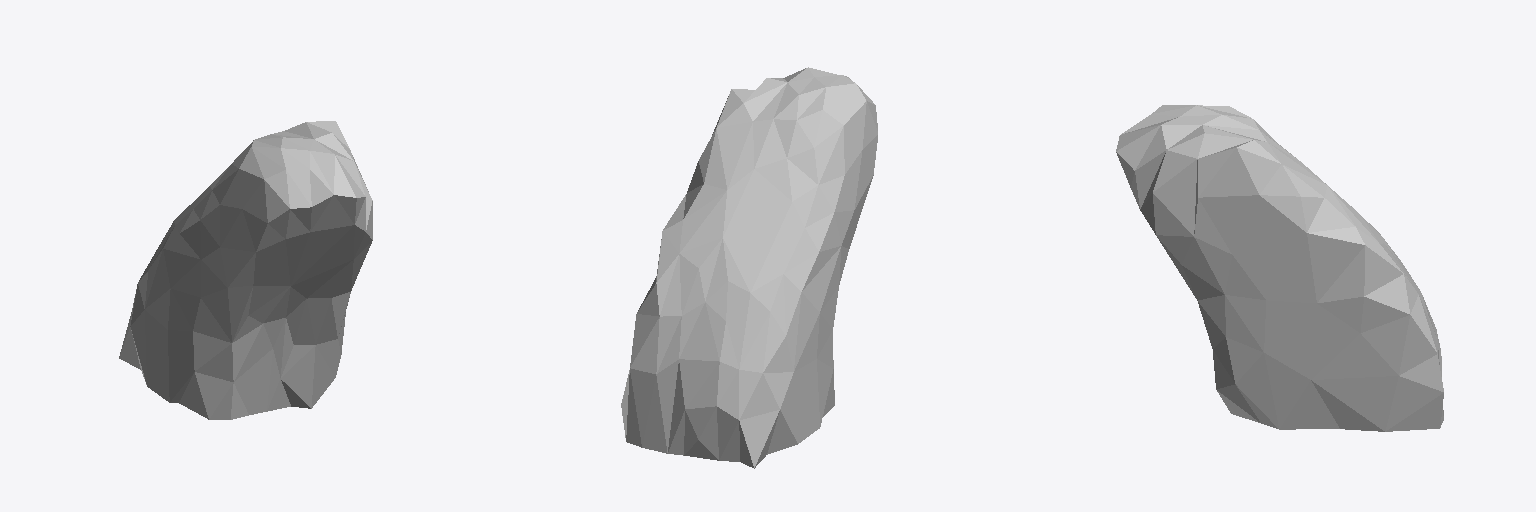
Rendered from LuaRock2.obj.
3 views of the same model, side by side, from view 1: azimuth 30°, elevation 25°; view 2: azimuth 150°, elevation 25°; view 3: azimuth 270°, elevation 25° (orthographic).
Visible parts, largest first — view 1: Cube; view 2: Cube; view 3: Cube.
Part boxes in pixels (bbox=[...]): Cube: bbox=[119, 121, 372, 419]; Cube: bbox=[621, 67, 877, 468]; Cube: bbox=[1116, 105, 1443, 431].
Bounding box in the file's own units: 0.9856 × 1.93 × 2.02.